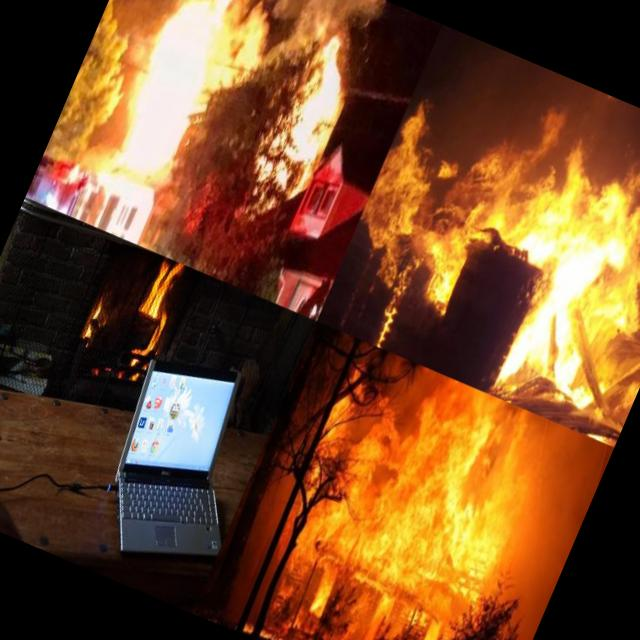fire: (242, 338, 565, 640), (470, 84, 640, 412), (98, 0, 250, 193), (339, 90, 480, 294), (258, 14, 377, 196), (444, 81, 571, 241), (118, 252, 196, 356), (415, 224, 481, 320), (74, 281, 118, 350), (367, 290, 408, 350)
smoke: (214, 0, 325, 104), (102, 0, 187, 35)
